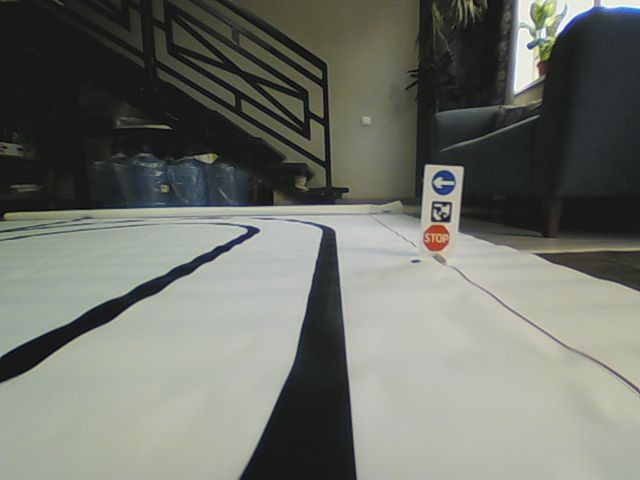Stop: (422, 223, 450, 252)
